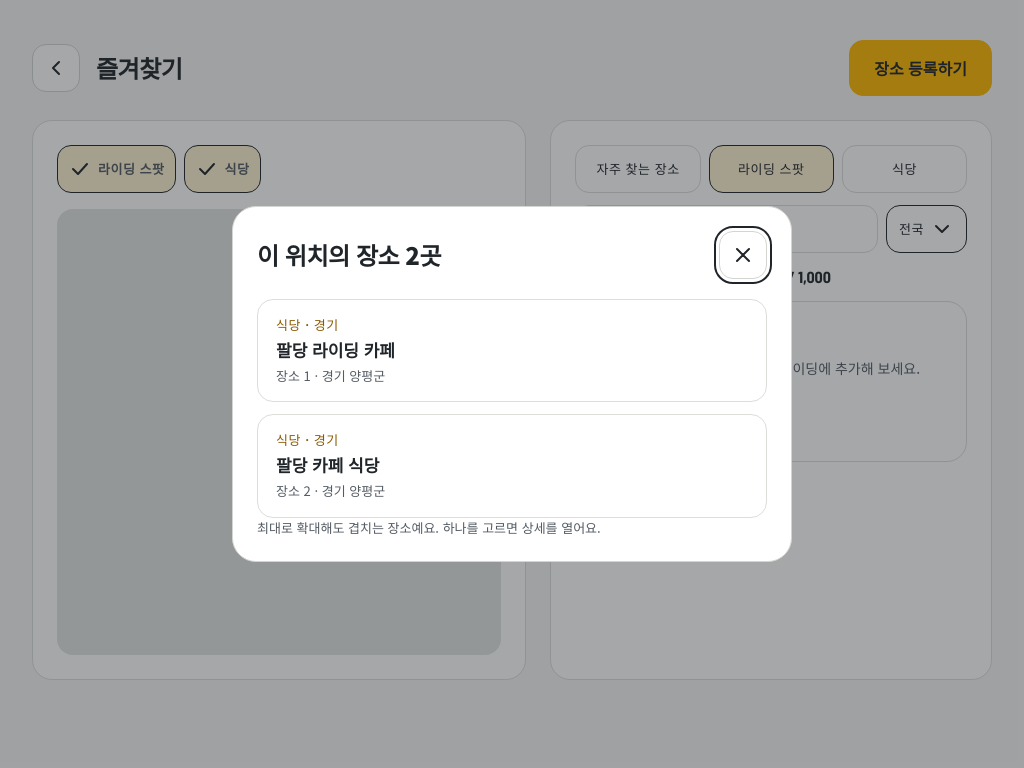
Test: lists same-coordinate cluster places in a sheet and opens the chosen detail
The width and height of the screenshot is (1024, 768).
Step 1. Click the button "식당 · 경기 팔당 카페 식당 장소 2 · 경기 양평군" → (328, 465), box [276,431,762,501]
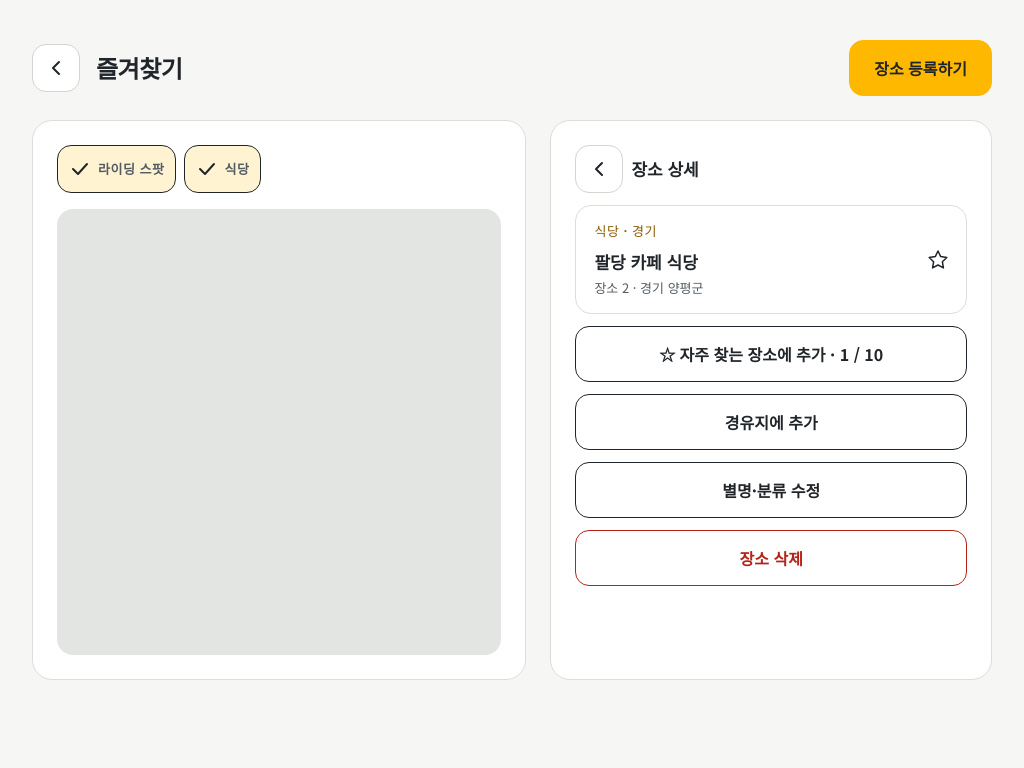
Now the text "이 위치의 장소 2곳" is gone
